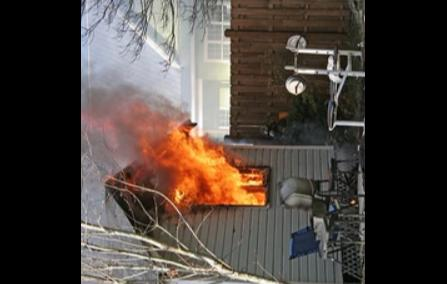fire: (132, 119, 278, 234)
smoke: (82, 80, 198, 172)
